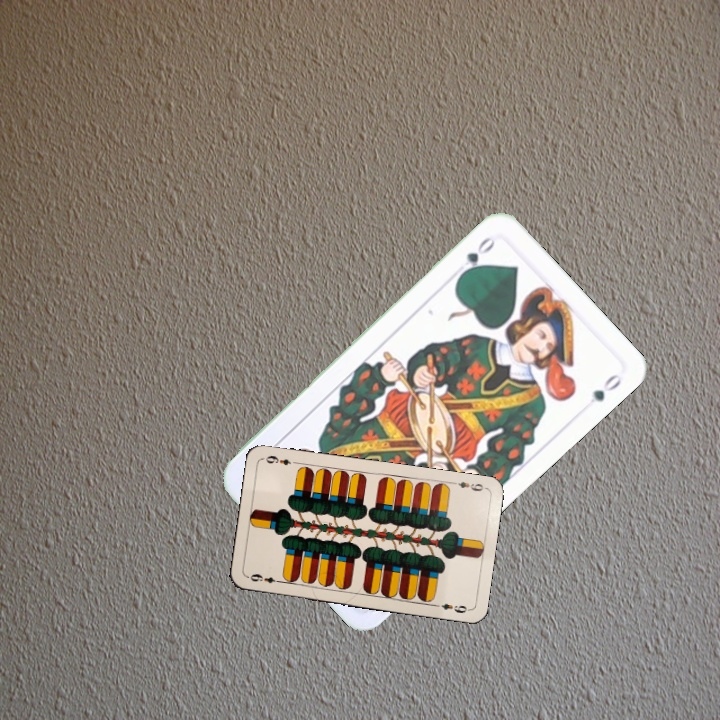E9: (448, 477, 488, 494), (244, 570, 285, 586)
GO: (455, 232, 498, 280)
